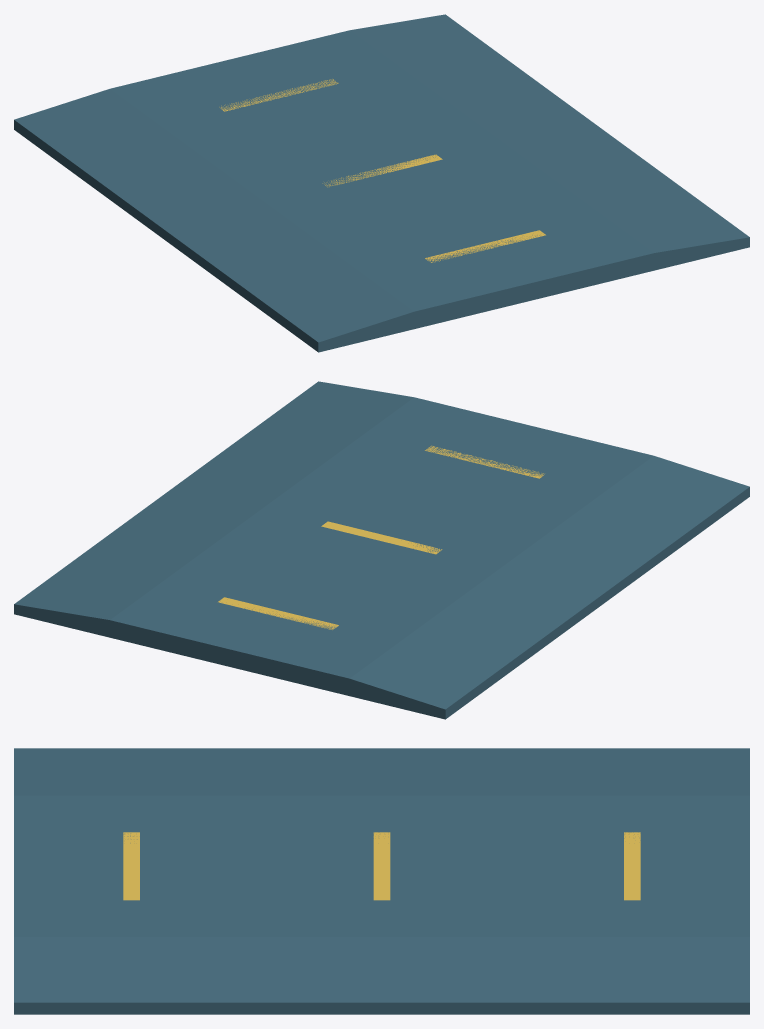
File: metro-threshold-deck.lod0.glb
The picture shows the model from 3 angles, top to bottom: view 1: azimuth 30°, elevation 25°; view 2: azimuth 150°, elevation 25°; view 3: azimuth 270°, elevation 25°; orthographic projection. The views are drawn at different scales.
Visible parts, largest first — view 1: module-batch-painted-metal, module-batch-tactile-yellow; view 2: module-batch-painted-metal, module-batch-tactile-yellow; view 3: module-batch-painted-metal, module-batch-tactile-yellow.
Part boxes in pixels (x1,y1,x2,y2): module-batch-painted-metal: [14, 14, 749, 352]; module-batch-tactile-yellow: [219, 79, 545, 262]; module-batch-painted-metal: [14, 381, 749, 719]; module-batch-tactile-yellow: [218, 445, 544, 629]; module-batch-painted-metal: [14, 748, 749, 1014]; module-batch-tactile-yellow: [123, 832, 640, 900].
Size of the model in its own units: 0.9 by 0.035 by 1.1.
